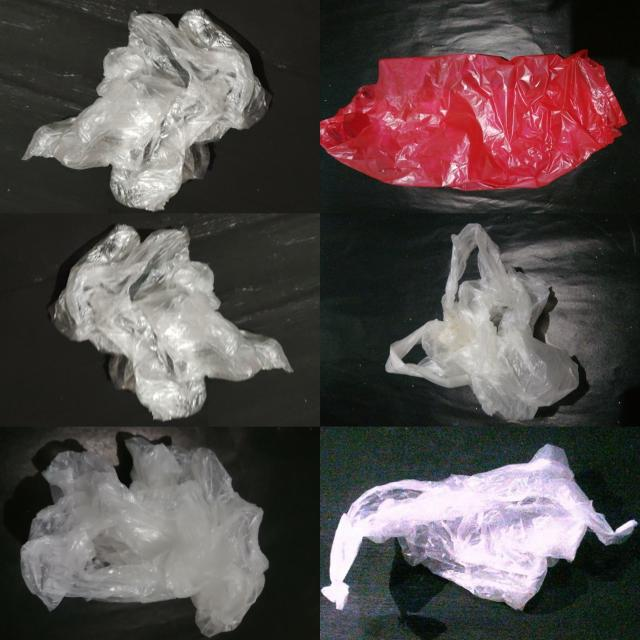Single-layer Plastic: (322, 445, 637, 610), (24, 10, 270, 211), (21, 438, 268, 636), (50, 225, 291, 421), (320, 50, 625, 190), (385, 224, 579, 421)
